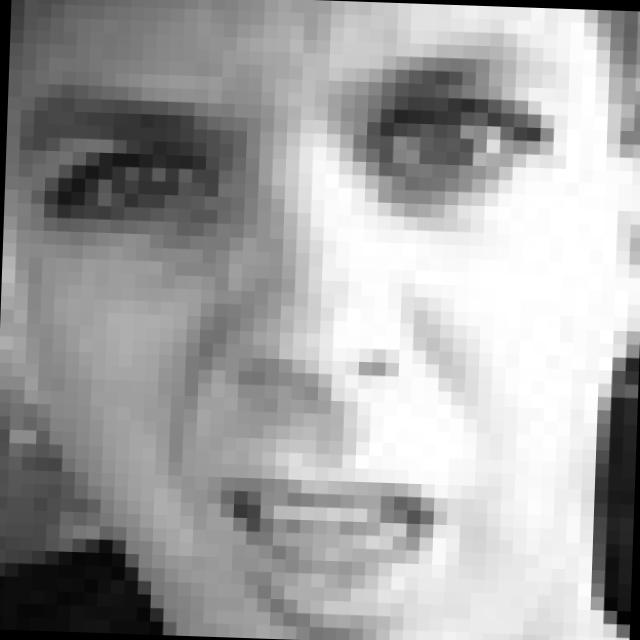disgust: (8, 23, 561, 640)
